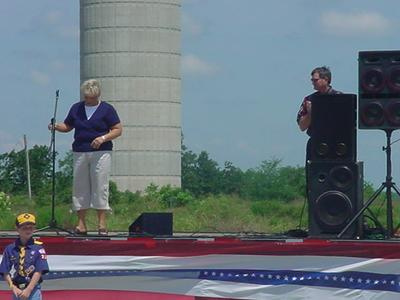person: (48, 79, 124, 237)
